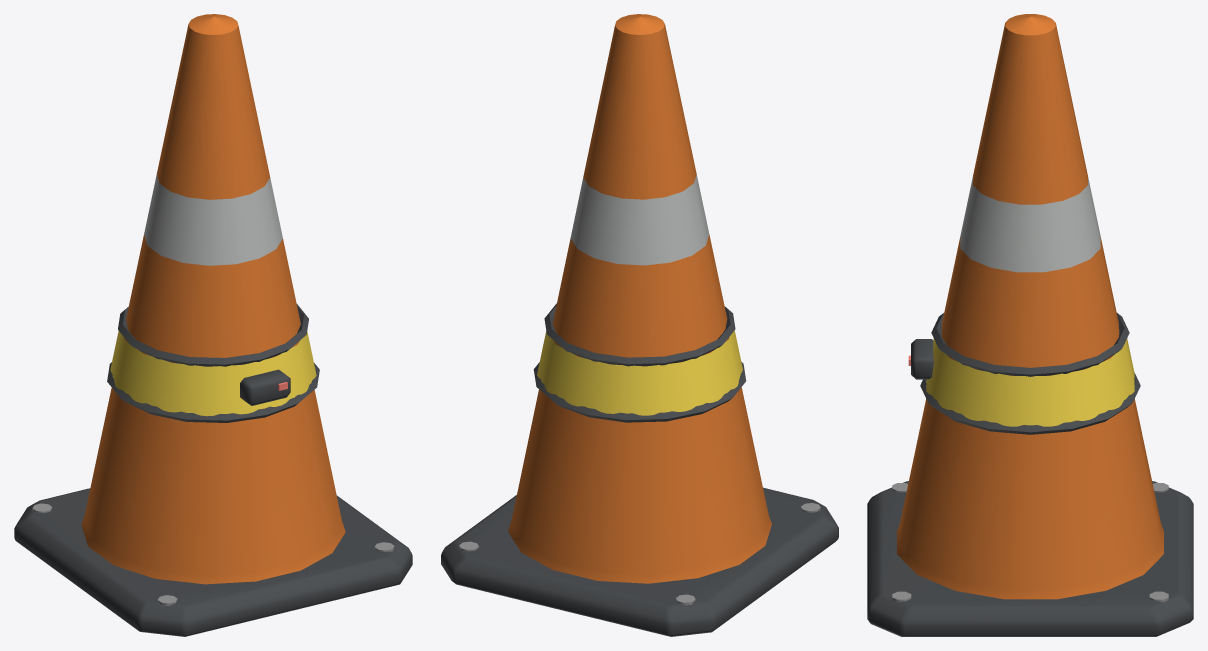
The model's file is TrafficCone.fbx.
3 renders of one model, left to right at view 1: azimuth 30°, elevation 25°; view 2: azimuth 150°, elevation 25°; view 3: azimuth 270°, elevation 25°, orthographic. The views are drawn at different scales.
Parts seen in each view (by area): view 1: TrafficCone_LOD0; view 2: TrafficCone_LOD0; view 3: TrafficCone_LOD0.
Boxes of the visible parts, x1,y1,x2,y2 form: TrafficCone_LOD0: (14, 14, 412, 636); TrafficCone_LOD0: (441, 14, 838, 636); TrafficCone_LOD0: (867, 14, 1193, 636).
Size of what is drawn, in the model's own units: 0.38 by 0.71 by 0.38.
